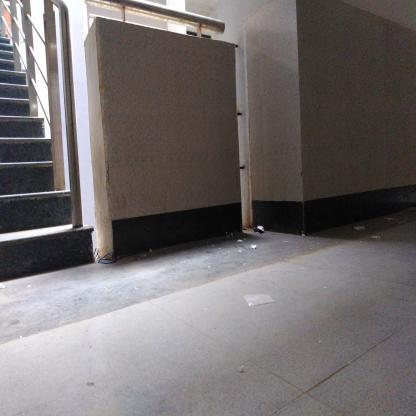stairs: (1, 71, 25, 293)
